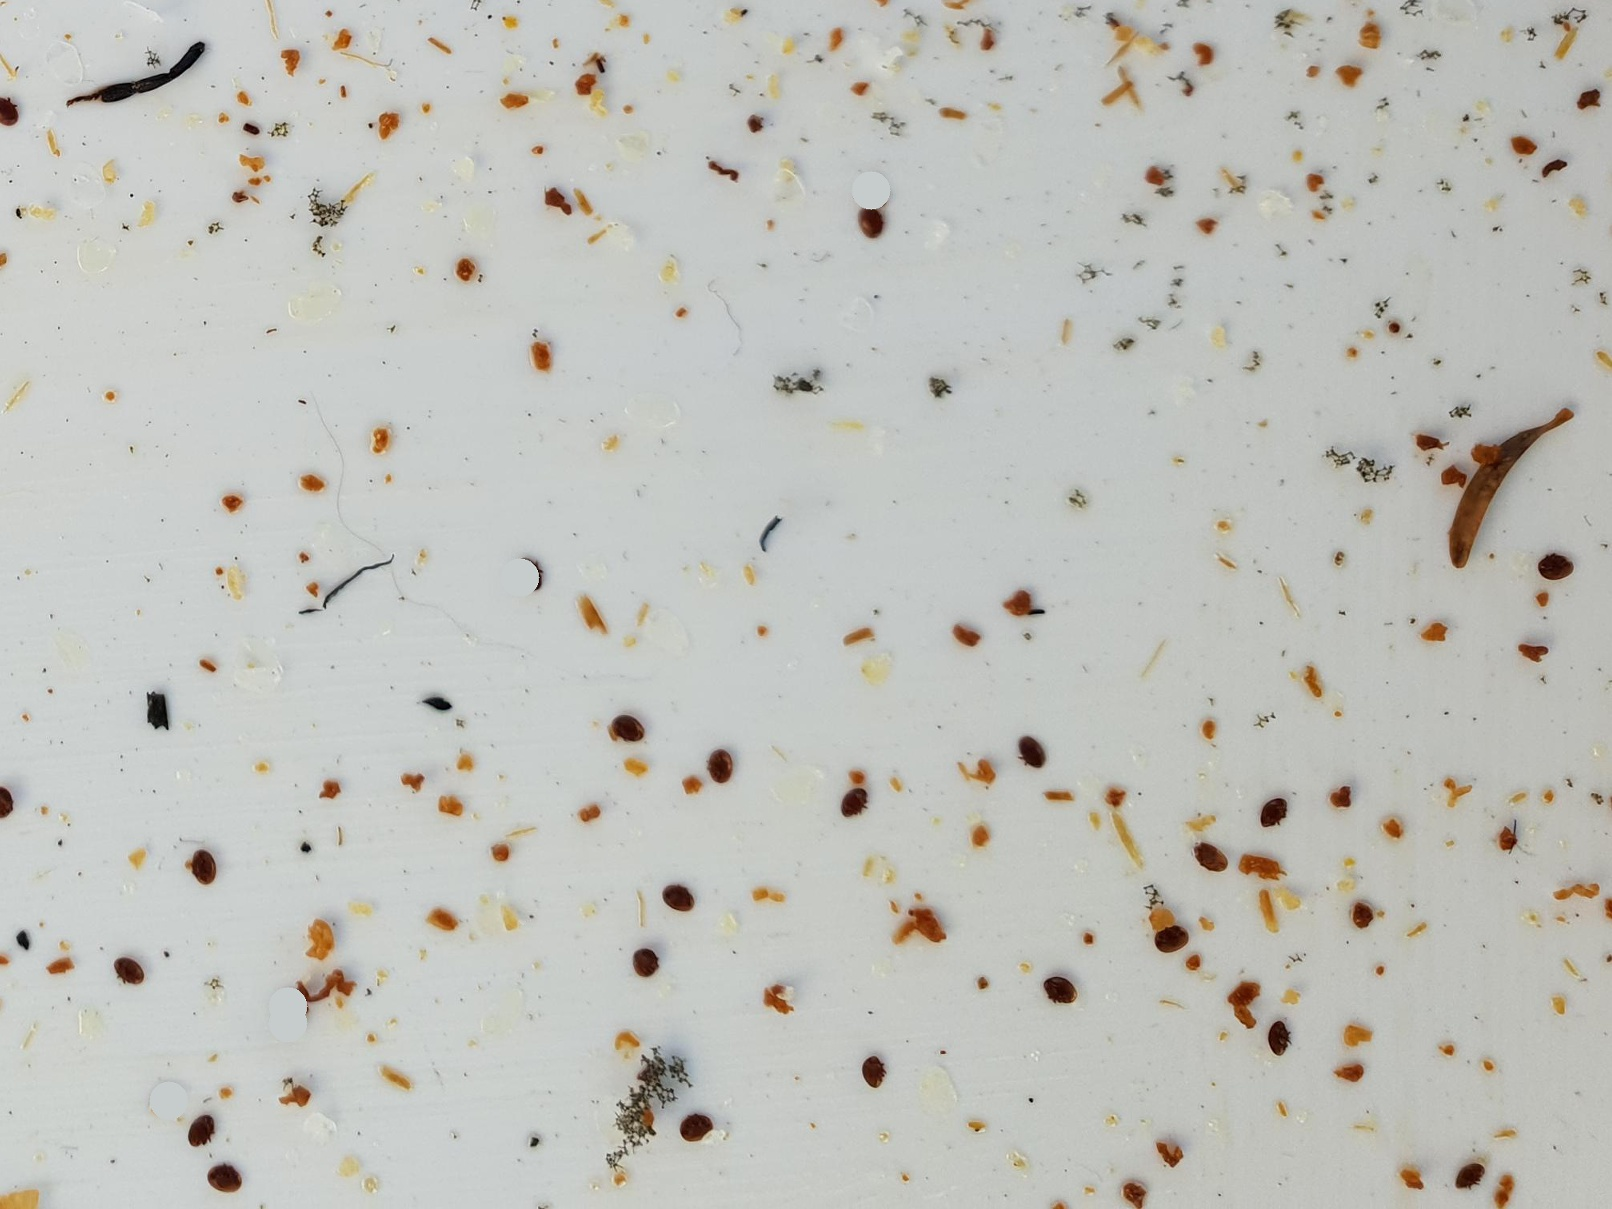Varroa: (187, 1112, 212, 1140), (1543, 552, 1570, 578), (690, 1114, 716, 1140), (862, 1057, 886, 1085), (1172, 919, 1196, 947), (1456, 1163, 1480, 1190), (1048, 975, 1073, 999), (861, 210, 883, 234), (190, 855, 213, 878), (216, 1165, 239, 1187), (619, 712, 640, 737), (1023, 740, 1045, 762), (669, 886, 689, 908), (708, 754, 730, 775), (632, 951, 652, 970), (1159, 928, 1174, 944), (1268, 801, 1282, 817), (1205, 848, 1219, 864), (1271, 1034, 1283, 1048), (128, 960, 141, 973), (531, 566, 541, 580), (1, 794, 11, 806), (852, 794, 862, 806)
